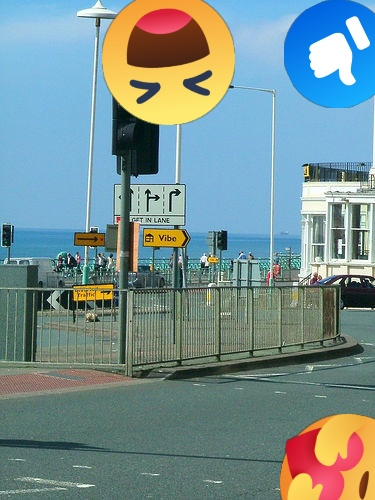care: (280, 414, 375, 500)
haha: (102, 0, 235, 125)
like: (284, 0, 375, 108)
